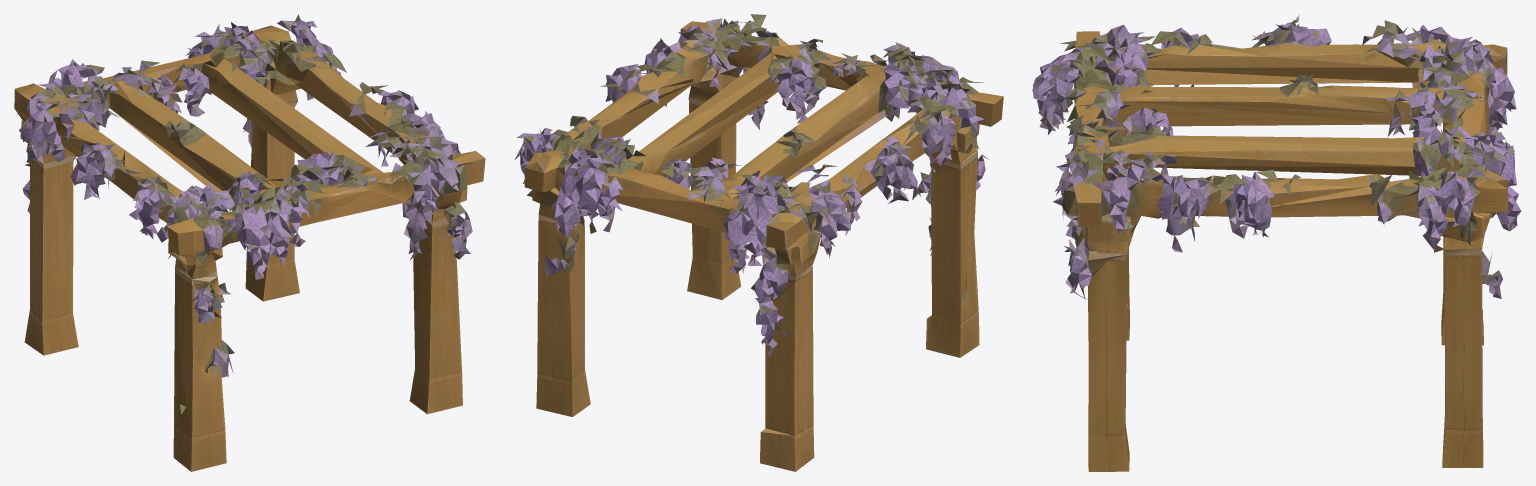
The model's file is wisteriaPergola.glb.
3 views of the same model, side by side, from view 1: azimuth 30°, elevation 25°; view 2: azimuth 150°, elevation 25°; view 3: azimuth 270°, elevation 25° (orthographic). The views are drawn at different scales.
Parts seen in each view (by area): view 1: Mesh_0; view 2: Mesh_0; view 3: Mesh_0.
Boxes of the visible parts, left/top/right/bottom form: Mesh_0: left=14, top=14, right=485, bottom=471; Mesh_0: left=514, top=14, right=1003, bottom=471; Mesh_0: left=1032, top=14, right=1521, bottom=471.
Bounding box in the file's own units: 2.18 × 1.78 × 2.5.
1 material, 1 textured.
